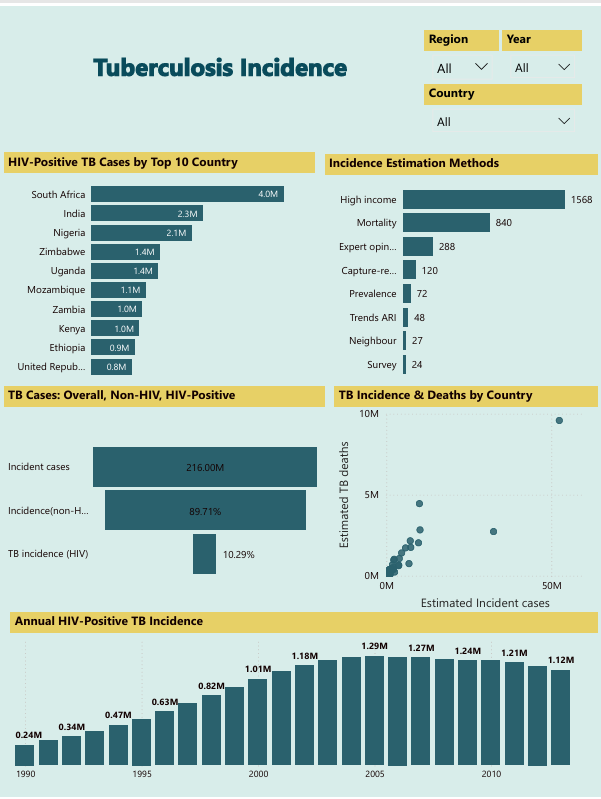

This screenshot's page, from the dashboard's own definition file:
{"tool":"powerbi","page":{"name":"TB Incidence","canvas":[816,1056],"ordinal":2},"visuals":[{"type":"slicer","title":"Region","fields":{"Values":["TB_Burden_Country.Region"]},"box":[572,32,100,72],"z":0},{"type":"slicer","title":"Year","fields":{"Values":["TB_Burden_Country.Year"]},"box":[676.1,32.3,105.8,71.7],"z":1000},{"type":"slicer","title":"Country","fields":{"Values":["TB_Burden_Country.Country or territory name"]},"box":[572.1,104,209.8,71.7],"z":2000},{"type":"clusteredBarChart","title":"Incidence Estimation Methods","fields":{"Category":["TB_Burden_Country.Method to derive incidence estimates"],"Y":["CountNonNull(TB_Burden_Country.Method to derive incidence estimates)"]},"box":[439.4,197.3,364.1,310.3],"z":3000},{"type":"funnel","title":"TB Cases: Overall, Non-HIV, HIV-Positive","fields":{"Y":["Sum(TB_Burden_Country.Estimated number of incident cases (all forms))","Sum(TB_Burden_Country.Estimated Incidence of TB Cases who are non-HIV-positive)","Sum(TB_Burden_Country.Estimated incidence of TB cases who are HIV-positive)"]},"box":[10.8,505.8,426.9,308.5],"z":4000},{"type":"clusteredColumnChart","title":"Annual HIV-Positive TB Incidence","fields":{"Y":["Sum(TB_Burden_Country.Estimated incidence of TB cases who are HIV-positive)"],"Category":["TB_Burden_Country.Year"]},"box":[20,808.3,783.3,233.3],"z":5000},{"type":"clusteredBarChart","title":"HIV-Positive TB Cases by Top 10 Country","fields":{"Category":["TB_Burden_Country.Country or territory name"],"Y":["Sum(TB_Burden_Country.Estimated incidence of TB cases who are HIV-positive)"]},"box":[10.8,195.5,414.3,310.3],"z":6000},{"type":"scatterChart","title":"TB Incidence & Deaths by Country","fields":{"X":["Sum(TB_Burden_Country.Estimated number of incident cases (all forms))"],"Y":["Sum(TB_Burden_Country.Estimated number of deaths from TB)"],"Category":["TB_Burden_Country.Country or territory name"]},"box":[452,505.8,351.5,303.1],"z":7000},{"type":"textbox","box":[86,18,426,146],"z":7001}]}

Visuals, with their boxes in screenshot pixels (x1, y1, x2, y2), scaled from the page's 816x1056 canvas onto the 601x799 screenshot:
"Region" slicer: (left=421, top=24, right=495, bottom=79)
"Year" slicer: (left=498, top=24, right=576, bottom=79)
"Country" slicer: (left=421, top=79, right=576, bottom=133)
"Incidence Estimation Methods" clusteredBarChart: (left=324, top=149, right=592, bottom=384)
"TB Cases: Overall, Non-HIV, HIV-Positive" funnel: (left=8, top=383, right=322, bottom=616)
"Annual HIV-Positive TB Incidence" clusteredColumnChart: (left=15, top=612, right=592, bottom=788)
"HIV-Positive TB Cases by Top 10 Country" clusteredBarChart: (left=8, top=148, right=313, bottom=383)
"TB Incidence & Deaths by Country" scatterChart: (left=333, top=383, right=592, bottom=612)
textbox: (left=63, top=14, right=377, bottom=124)
